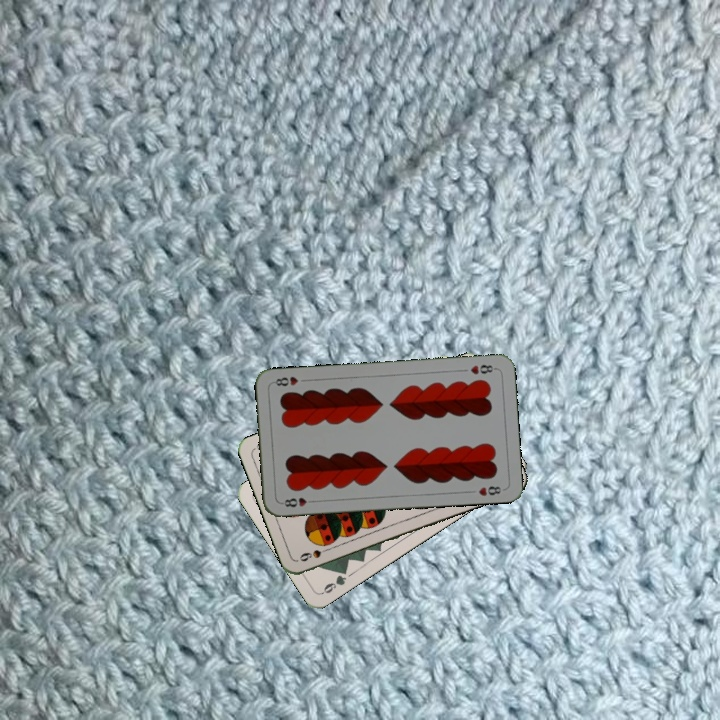G9: (318, 564, 350, 597)
H8: (277, 494, 318, 509), (466, 361, 498, 377)
S9: (295, 543, 335, 564)
